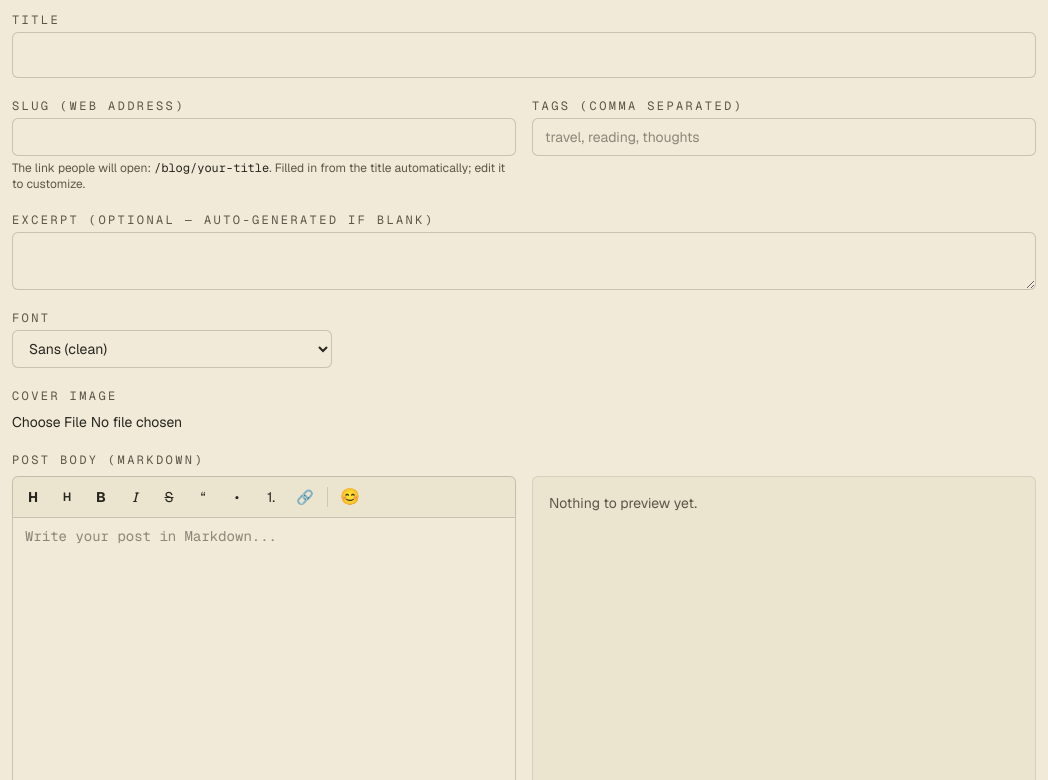
it: PostEditor › auto-derives the slug from the title until the slug is edited
This screenshot has width=1048, height=780.
Type "Hello World" into the field labelled "Title" at coordinates (524, 55), box top-left (12, 32), bottom-right (1036, 78)
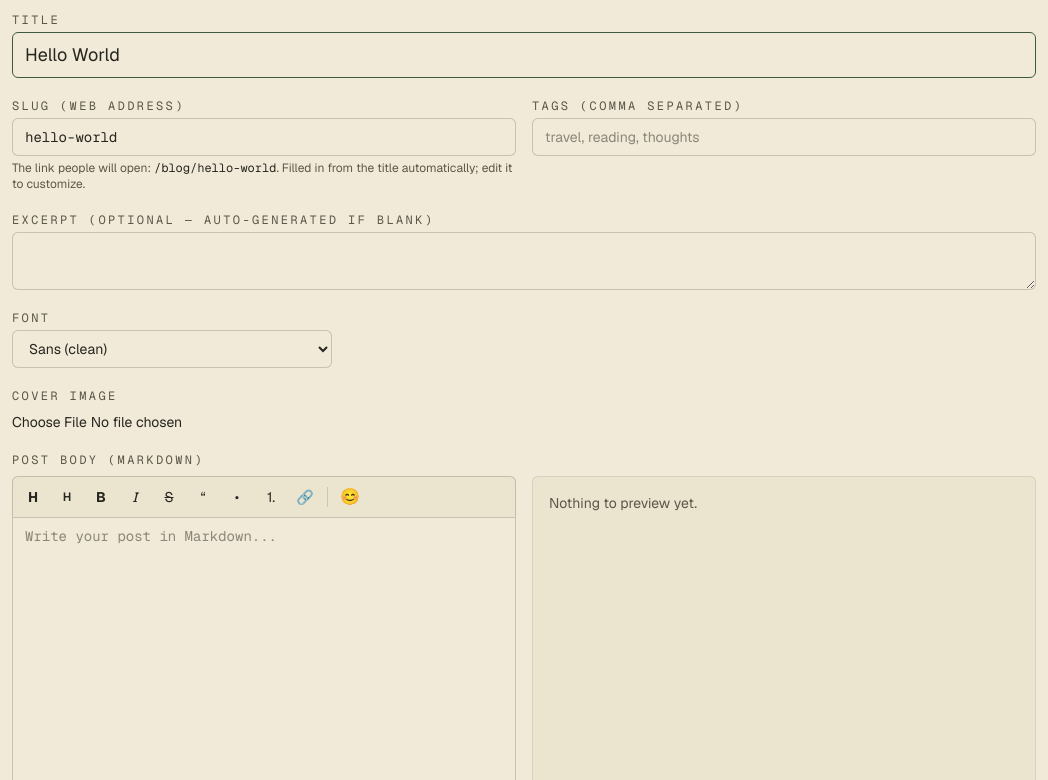
expect the field labelled "Slug (web address)" holds "hello-world": met, box top-left (12, 118), bottom-right (516, 156)
